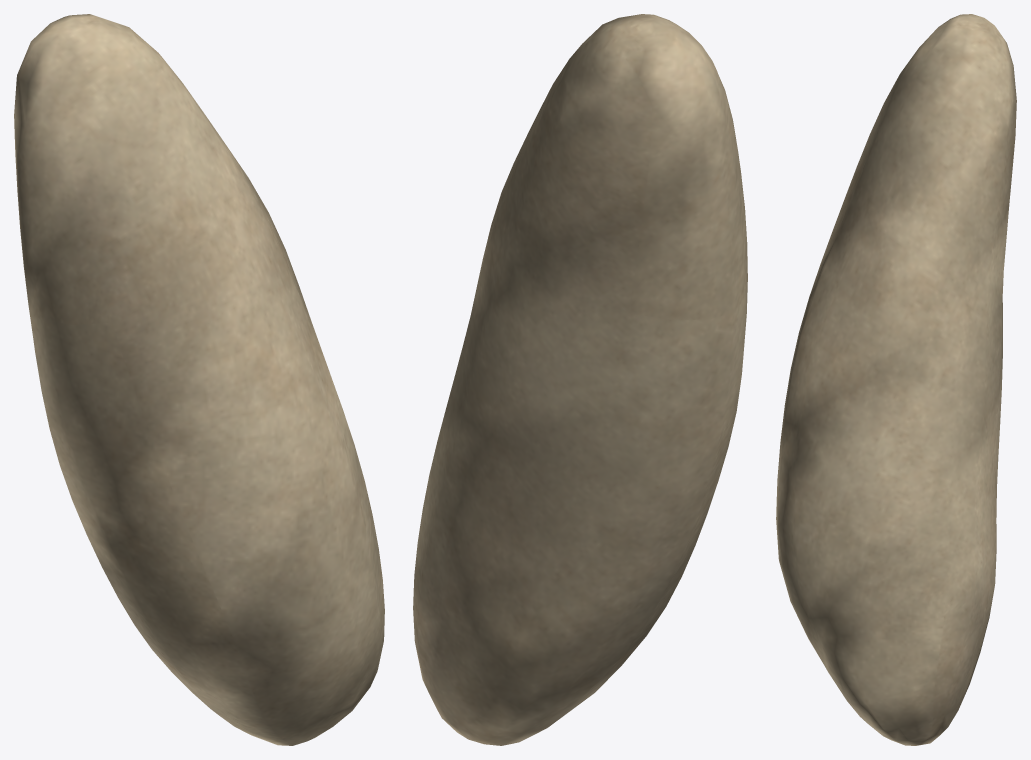
The model's file is upper_canine.glb.
3 views of the same model, side by side, from view 1: azimuth 30°, elevation 25°; view 2: azimuth 150°, elevation 25°; view 3: azimuth 270°, elevation 25° (orthographic). The views are drawn at different scales.
Parts seen in each view (by area): view 1: Group11207_Mesh.034; view 2: Group11207_Mesh.034; view 3: Group11207_Mesh.034.
Part boxes in pixels (bbox=[...]): Group11207_Mesh.034: bbox=[14, 14, 384, 745]; Group11207_Mesh.034: bbox=[413, 14, 747, 745]; Group11207_Mesh.034: bbox=[776, 14, 1016, 745].
Size of the model in its own units: 0.00942 by 0.0214 by 0.00722.
Materials: 1 (1 with a texture image).
